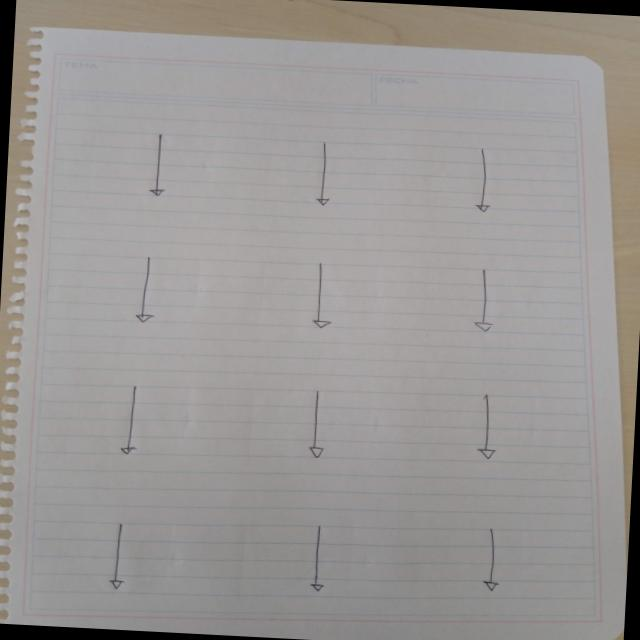arrow_line_down: (296, 262, 348, 332), (300, 140, 350, 212), (294, 391, 342, 463), (107, 382, 152, 458), (138, 131, 180, 206), (124, 256, 166, 331), (470, 148, 509, 220), (302, 519, 336, 598), (479, 521, 511, 596), (466, 270, 500, 336), (470, 396, 504, 462), (110, 525, 132, 599)
